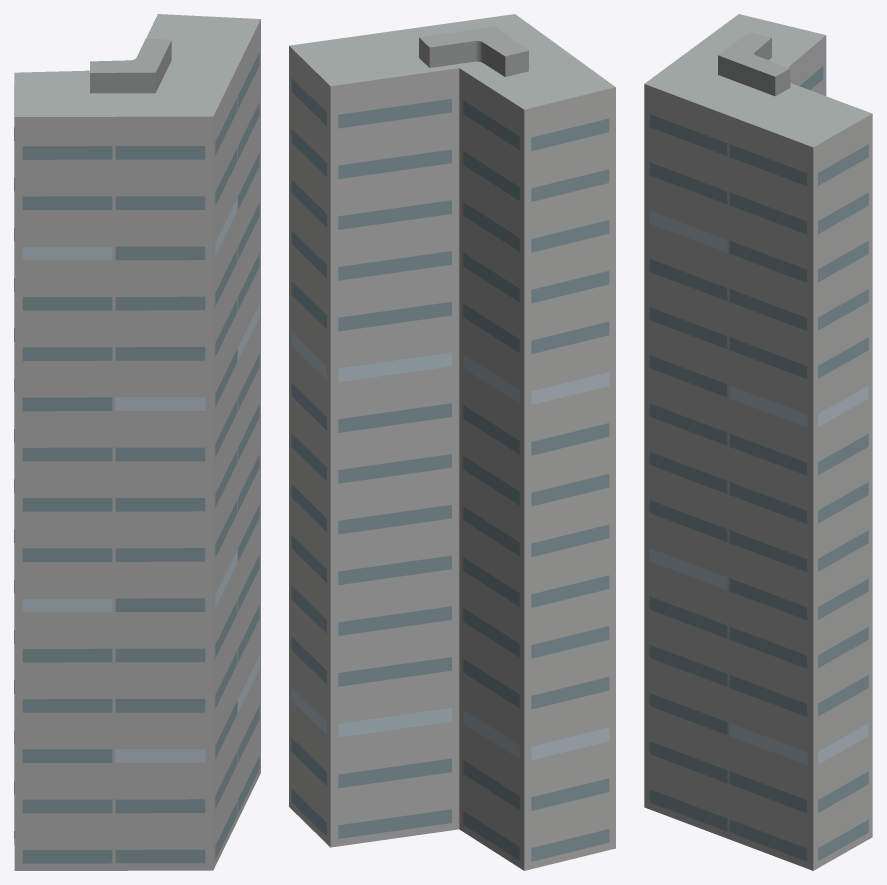
Rendered from fallback-jamsil-ricenz-220.glb.
3 views of the same model, side by side, from view 1: azimuth 30°, elevation 25°; view 2: azimuth 150°, elevation 25°; view 3: azimuth 270°, elevation 25° (orthographic). The views are drawn at different scales.
Visible parts, largest first — view 1: fallback-jamsil-ricenz-220; view 2: fallback-jamsil-ricenz-220; view 3: fallback-jamsil-ricenz-220.
Boxes of the visible parts, <box> form: fallback-jamsil-ricenz-220: <box>14,14,260,870</box>; fallback-jamsil-ricenz-220: <box>289,14,615,870</box>; fallback-jamsil-ricenz-220: <box>644,14,872,870</box>.
Size of the model in its own units: 35.05 by 91 by 25.36.
